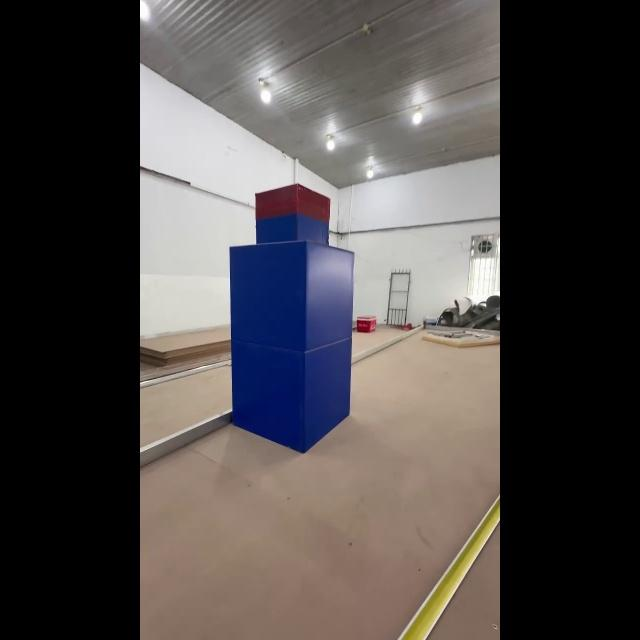earth_block: (224, 243, 365, 348), (230, 344, 355, 453)
sky_block: (252, 183, 334, 243)
